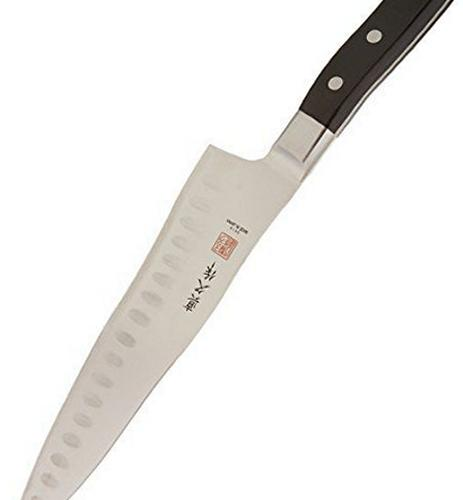knife: (22, 1, 456, 500)
